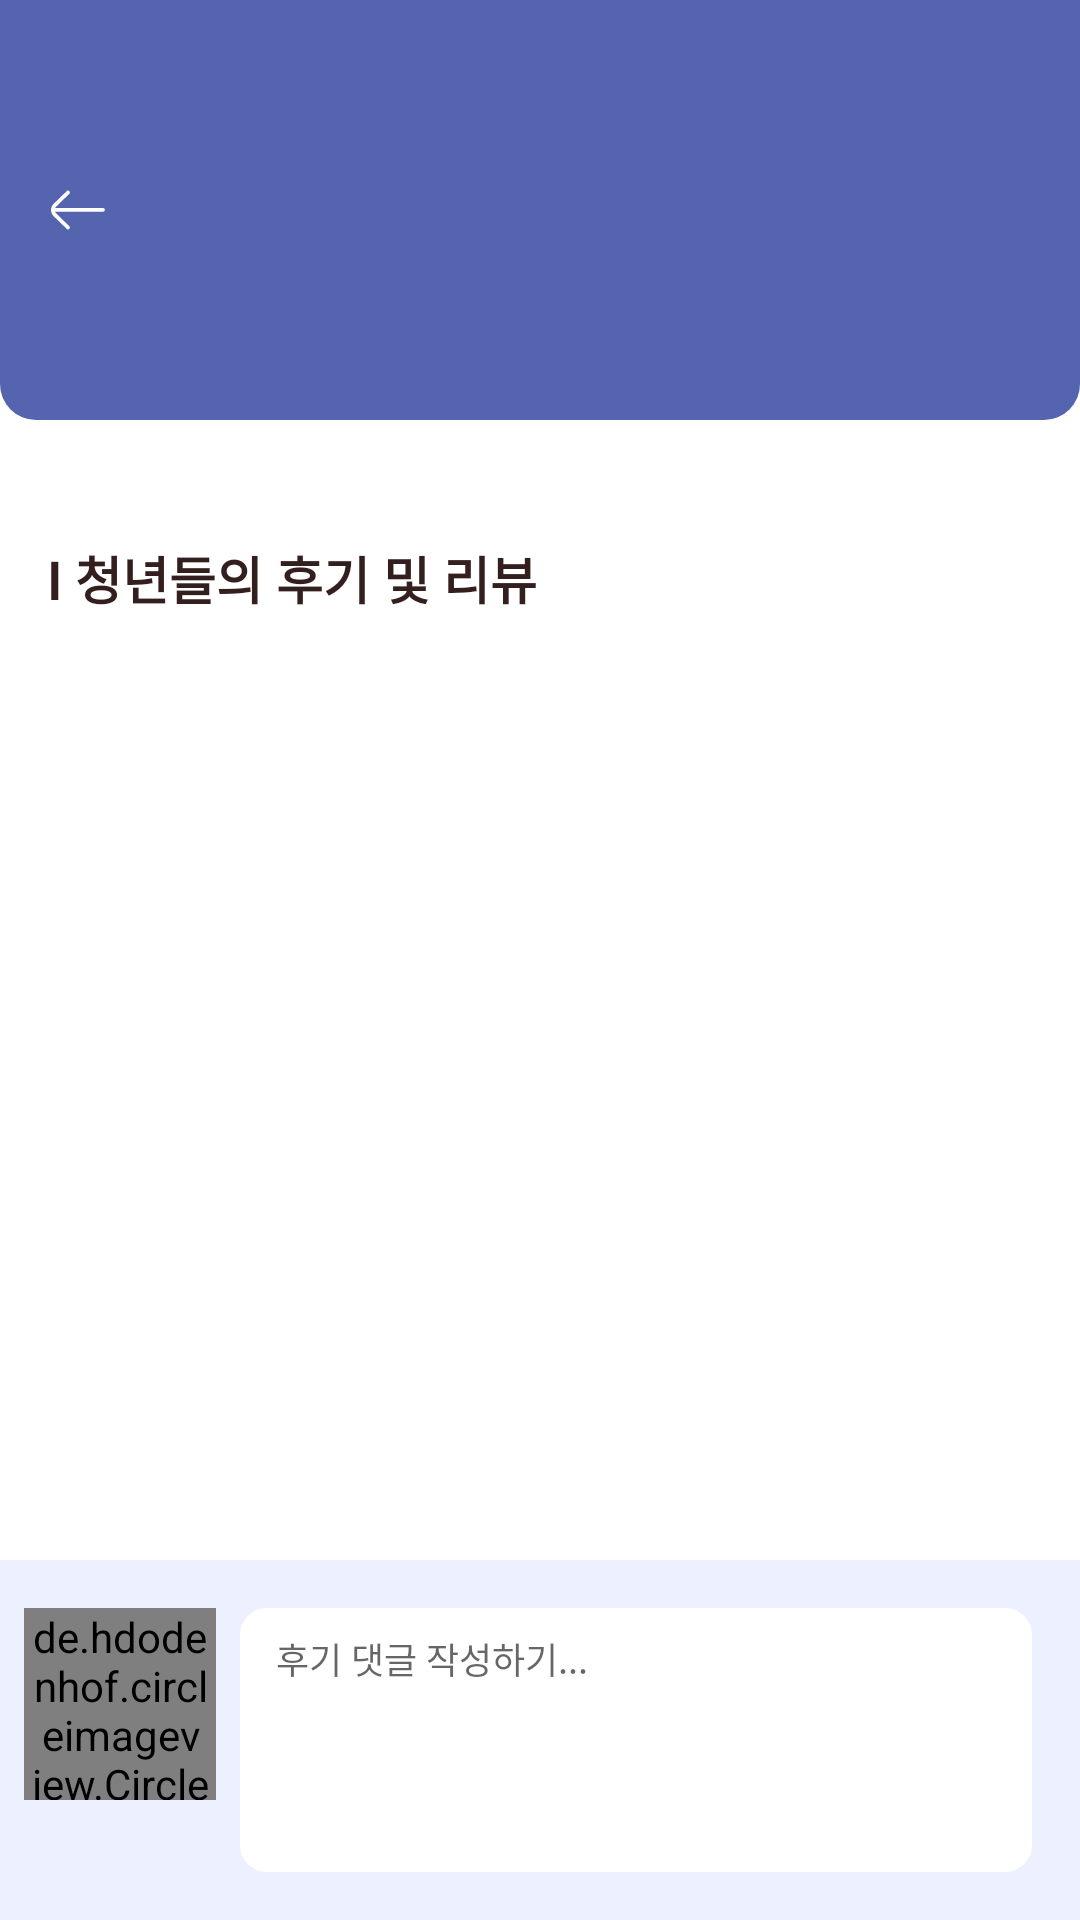

Named icons in this screenshot (1080w x 1920h) and their centers, point (x, y):
back: point (78, 210)
